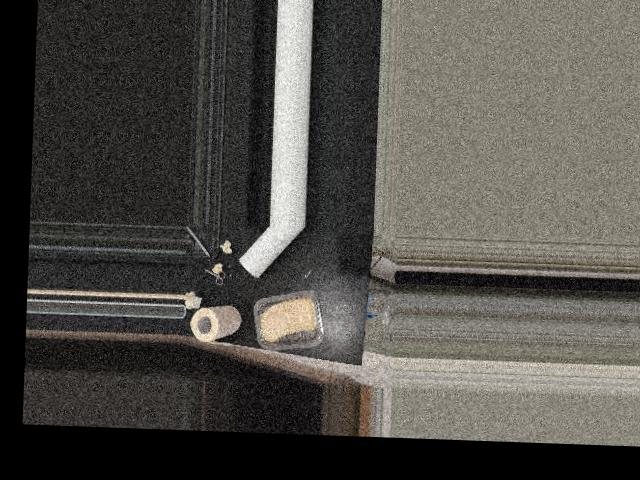cheese: (252, 290, 326, 347)
